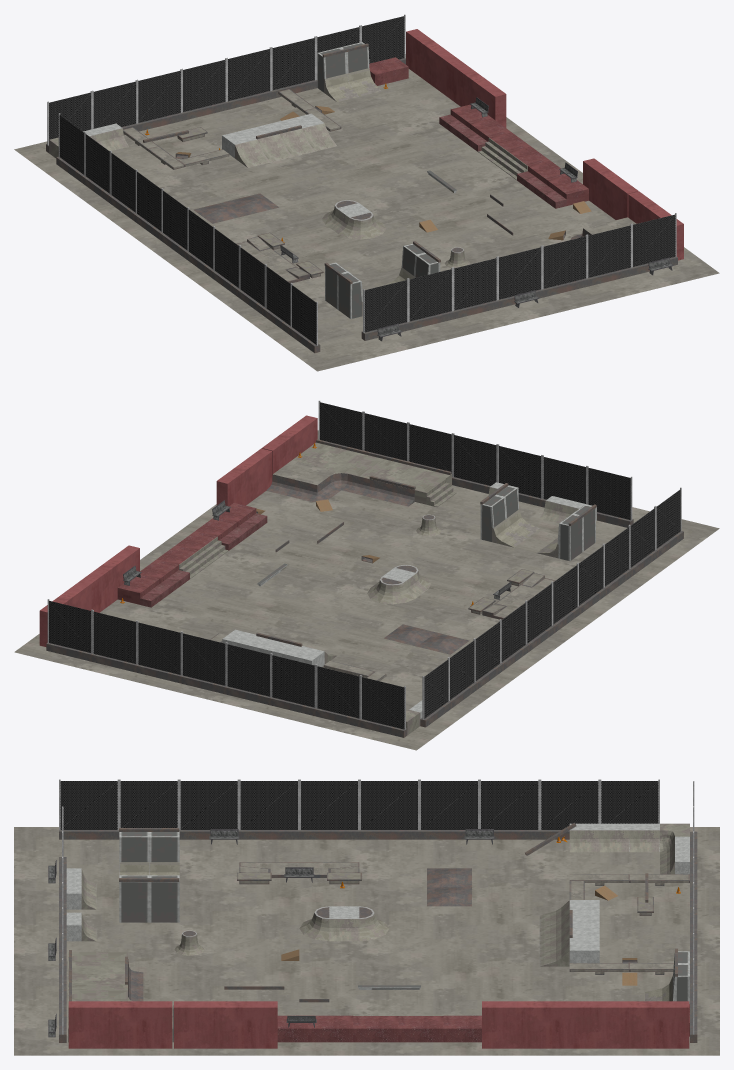
Rendered from PSX Skate Park.fbx.
3 views of the same model, one above another, from view 1: azimuth 30°, elevation 25°; view 2: azimuth 150°, elevation 25°; view 3: azimuth 270°, elevation 25° (orthographic). The views are drawn at different scales.
Visible parts, largest first — view 1: SkatePark_Floor, Block_Big_Red.001, Block_Big_Red, Block_Big_Red.002, Fence_Medium.022, Fence_Medium.004, Fence_Medium.005, Fence_Medium.018, Fence_Medium.019, Fence_Medium.020, Fence_Medium.003, Fence_Medium.023 (+32 smaller); view 2: SkatePark_Floor, Block_Big_Red.002, Fence_Medium.004, Fence_Medium.007, Fence_Medium, Fence_Medium.001, Fence_Medium.002, Fence_Medium.003, Fence_Medium.006, Fence_Medium.005, Fence_Medium.018, Fence_Medium.021 (+30 smaller); view 3: SkatePark_Floor, Block_Big_Red.003, Block_Big_Red.001, Block_Big_Red.002, Block_Big_Red, Fence_Medium.012, Fence_Medium.013, Fence_Medium.014, Fence_Medium.010, Fence_Medium.011, Fence_Medium.015, Fence_Medium.017 (+42 smaller).
Boxes of the visible parts, x1,y1,x2,y2 form: SkatePark_Floor: (14, 54, 719, 371); Block_Big_Red.001: (406, 29, 461, 98); Block_Big_Red: (450, 61, 506, 127); Block_Big_Red.002: (583, 158, 638, 219); Fence_Medium.022: (542, 234, 587, 289); Fence_Medium.004: (226, 47, 271, 101); Fence_Medium.005: (271, 36, 316, 90); Fence_Medium.018: (363, 278, 408, 332); Fence_Medium.019: (408, 267, 452, 321); Fence_Medium.020: (453, 256, 497, 311); Fence_Medium.003: (137, 69, 181, 123); Fence_Medium.023: (587, 224, 631, 278); SkatePark_Floor: (14, 430, 719, 750); Block_Big_Red.002: (216, 448, 272, 506); Fence_Medium.004: (181, 631, 226, 686); Fence_Medium.007: (47, 599, 92, 653); Fence_Medium: (226, 642, 271, 696); Fence_Medium.001: (360, 675, 405, 729); Fence_Medium.002: (316, 664, 360, 718); Fence_Medium.003: (271, 653, 315, 707); Fence_Medium.006: (92, 610, 137, 664); Fence_Medium.005: (137, 621, 181, 675); Fence_Medium.018: (587, 466, 632, 520); Fence_Medium.021: (453, 433, 497, 485); SkatePark_Floor: (14, 827, 719, 1055); Block_Big_Red.003: (68, 1001, 172, 1048); Block_Big_Red.001: (585, 1001, 689, 1048); Block_Big_Red.002: (174, 1001, 277, 1048); Block_Big_Red: (482, 1001, 585, 1048); Fence_Medium.012: (359, 779, 419, 830); Fence_Medium.013: (299, 779, 359, 830); Fence_Medium.014: (239, 779, 299, 830); Fence_Medium.010: (479, 779, 539, 830); Fence_Medium.011: (419, 779, 479, 830); Fence_Medium.015: (179, 779, 239, 830); Fence_Medium.017: (59, 779, 118, 830).
Size of the model in its own units: 3601 by 434 by 4700.
